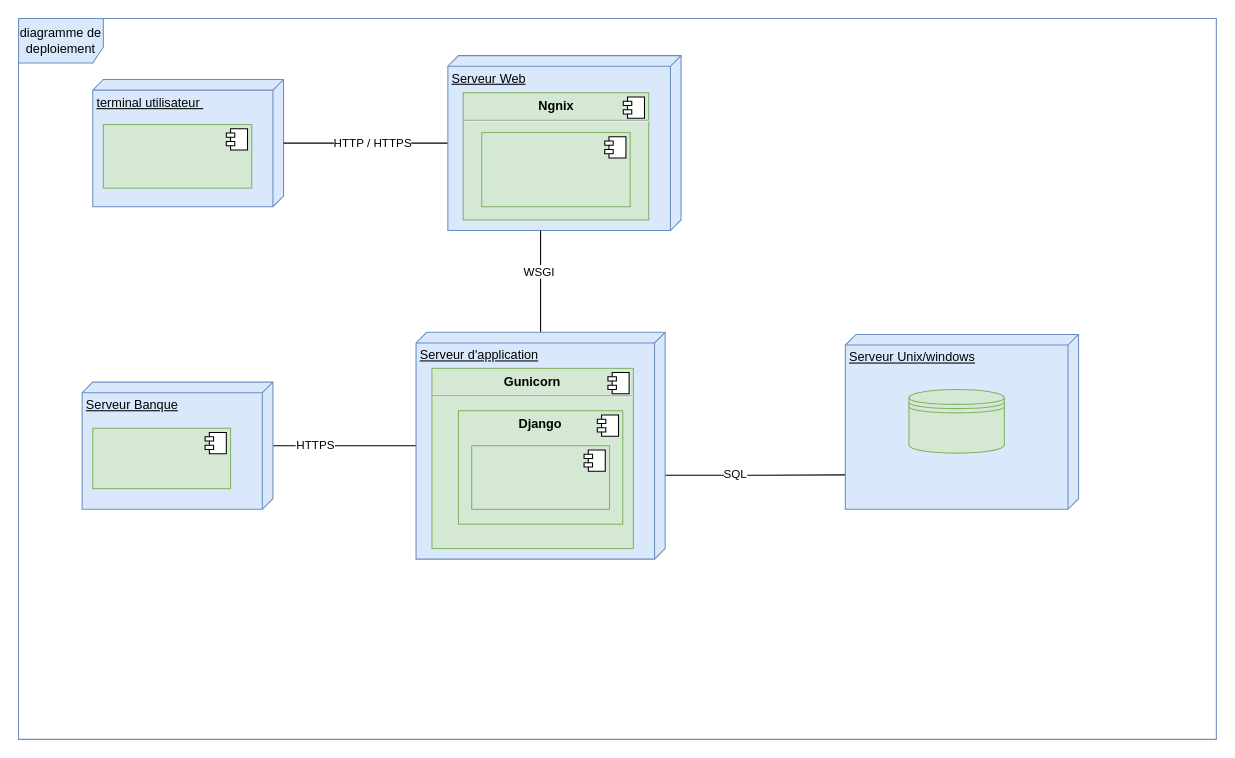
Image size: 1235x758. Some labels were removed from this diagram. Here are the shapes that lost their labels. From the top down, the centre of each, then its label:
At (177,155): "Navigateur Web".
At (555,169): "HTML, CSS, JS".
At (956,420): "SGBD MySQL".
At (161,458): "API paiement".
At (540,477): "Application Python OCpizzas".
